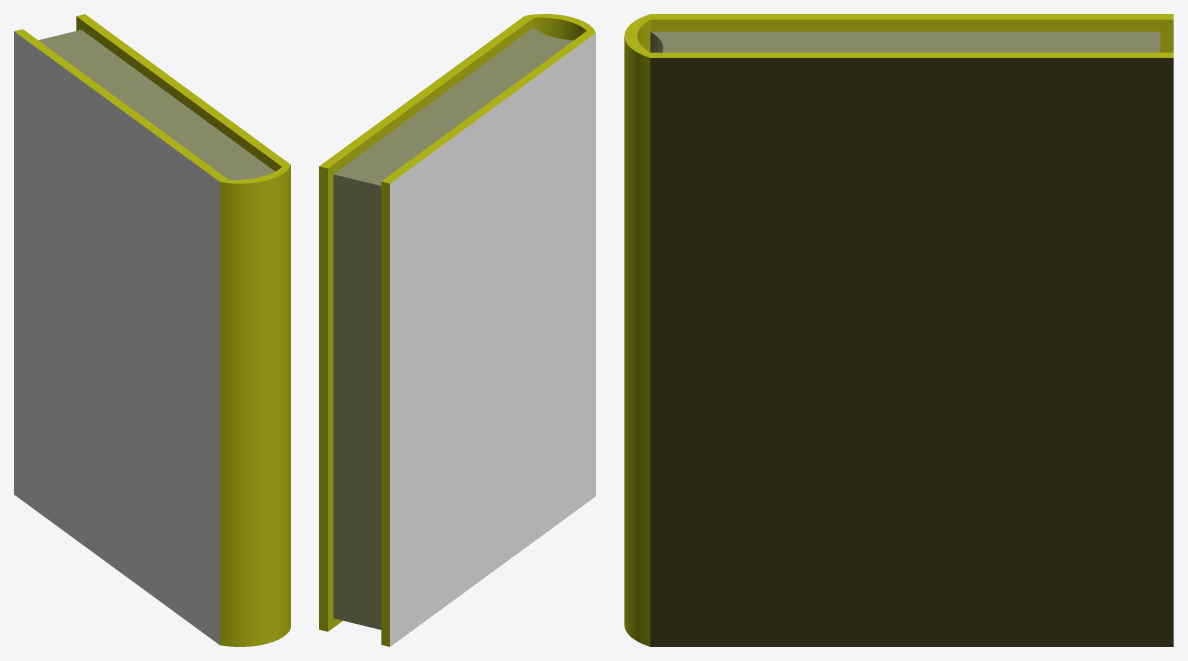
Rendered from TomeSimple.fbx.
The picture shows the model from 3 angles, left to right: view 1: azimuth 30°, elevation 25°; view 2: azimuth 150°, elevation 25°; view 3: azimuth 270°, elevation 25°; orthographic projection. The views are drawn at different scales.
Visible parts, largest first — view 1: thunder1; view 2: thunder1; view 3: thunder1.
Part boxes in pixels (x1,y1,x2,y2): thunder1: (14,14,290,646); thunder1: (319,14,595,646); thunder1: (624,14,1173,646).
Size of the model in its own units: 2 by 12.48 by 10.55.
